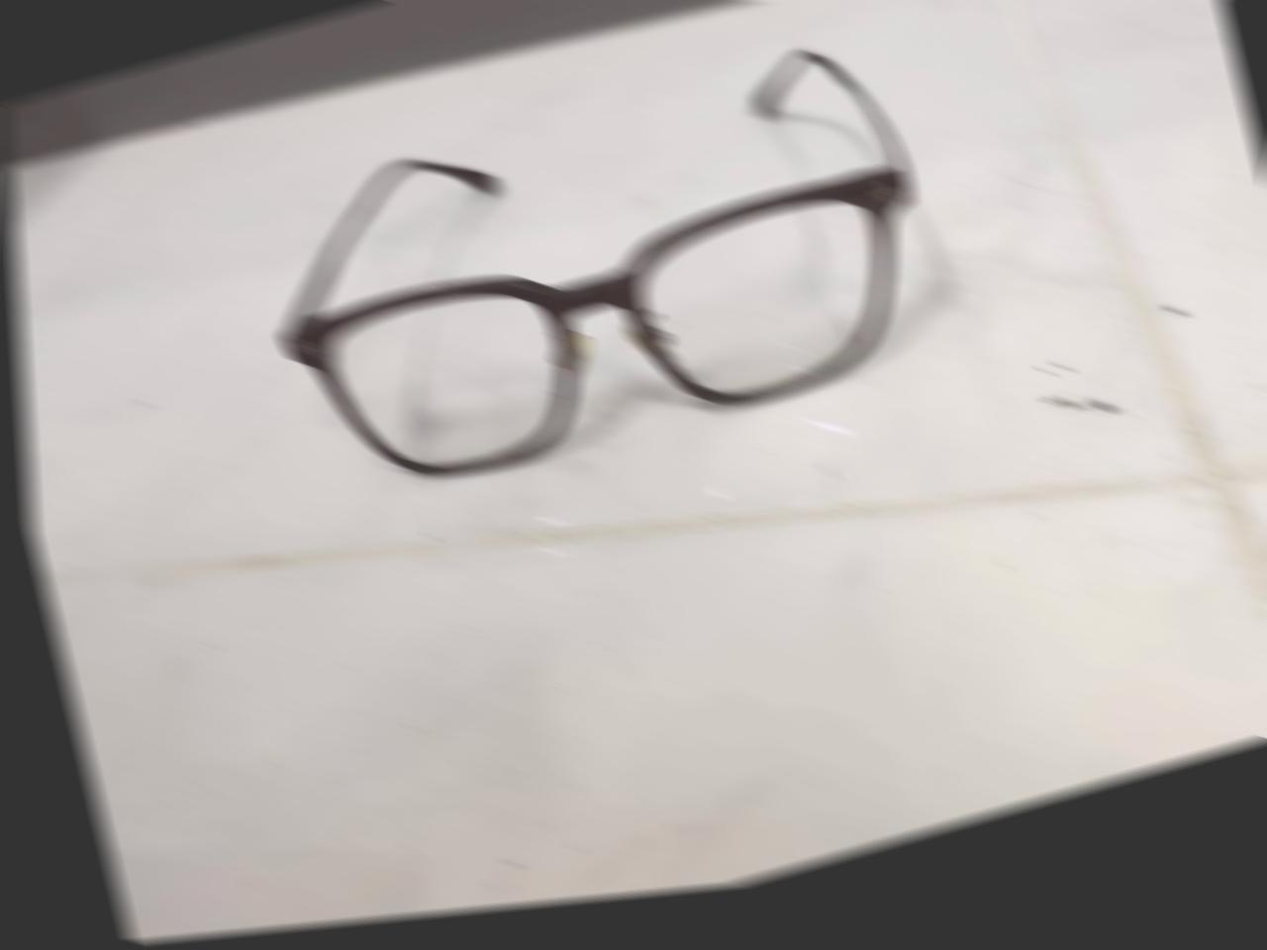glasses: (227, 2, 980, 551)
